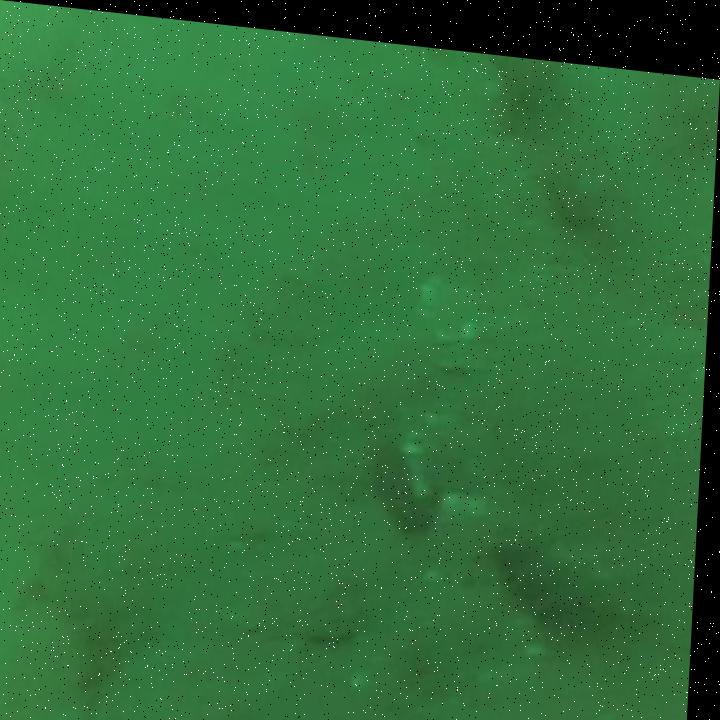holothurian: (487, 470, 628, 618)
